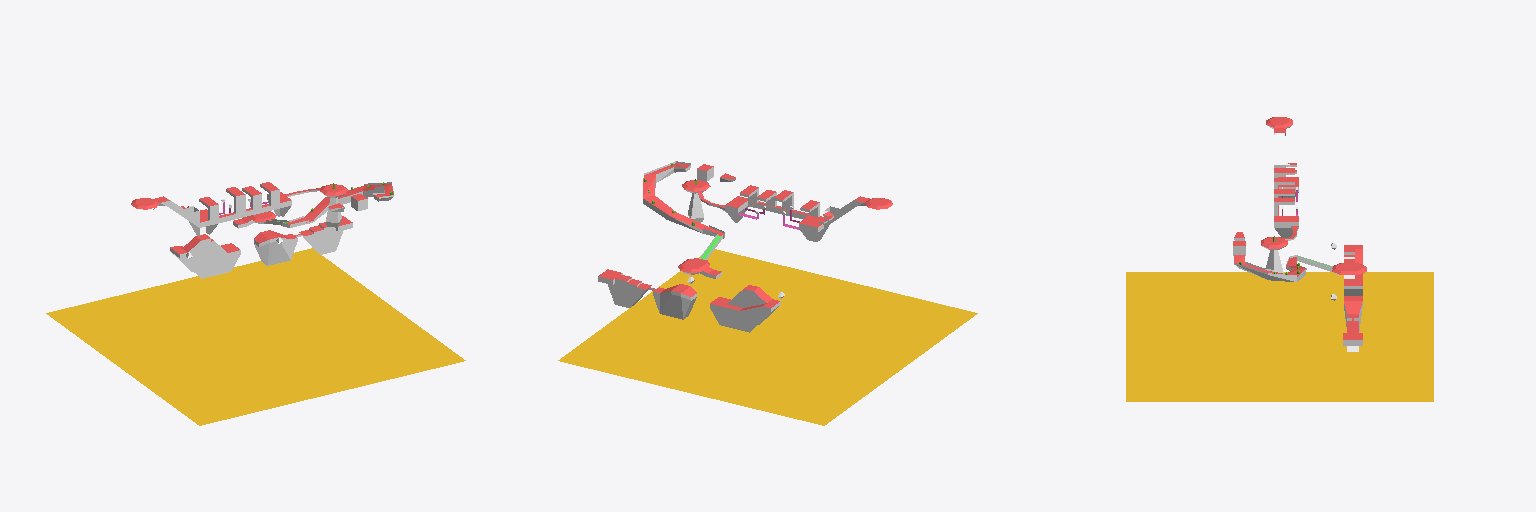
The model's file is Bowser First Course Area 1.obj.
The picture shows the model from 3 angles: view 1: azimuth 30°, elevation 25°; view 2: azimuth 150°, elevation 25°; view 3: azimuth 270°, elevation 25°; orthographic projection.
Size of the model in its own units: 32766 by 19044 by 32766.